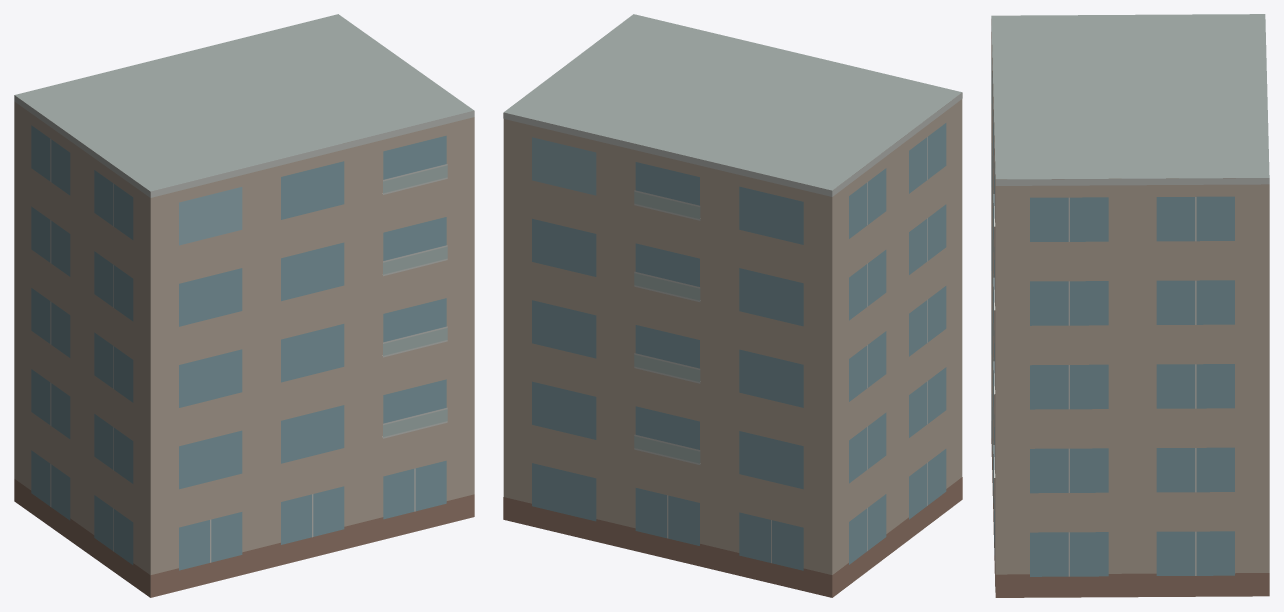
Rendered from survey-upis-32532540.glb.
3 renders of one model, left to right at view 1: azimuth 30°, elevation 25°; view 2: azimuth 150°, elevation 25°; view 3: azimuth 270°, elevation 25°, orthographic. The views are drawn at different scales.
Parts seen in each view (by area): view 1: survey-upis-32532540.tmp; view 2: survey-upis-32532540.tmp; view 3: survey-upis-32532540.tmp.
Boxes of the visible parts, x1=… form: survey-upis-32532540.tmp: x1=14, y1=14, x2=474, y2=597; survey-upis-32532540.tmp: x1=503, y1=14, x2=962, y2=597; survey-upis-32532540.tmp: x1=991, y1=14, x2=1269, y2=597.
Bounding box in the file's own units: 13.15 × 15.5 × 9.35.
